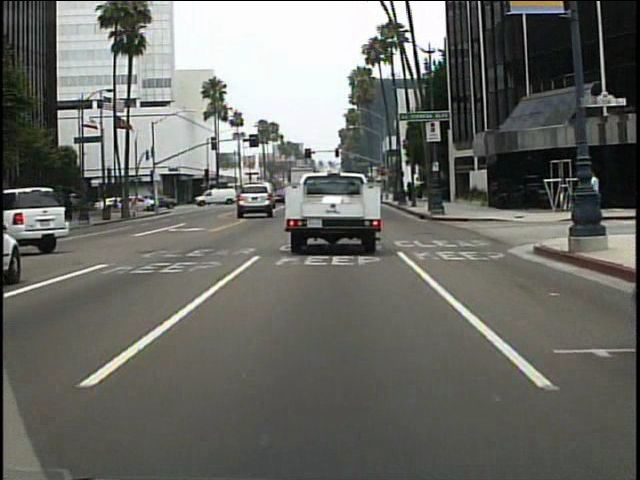person: (586, 169, 603, 219), (580, 172, 592, 215), (143, 191, 156, 217)
